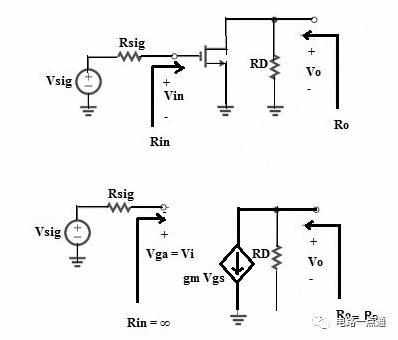gnd: (213, 101, 237, 120), (265, 101, 286, 120), (78, 101, 99, 119), (67, 253, 88, 270), (228, 312, 250, 328)
mos: (196, 40, 234, 71)
power1: (63, 216, 94, 247), (73, 66, 105, 96)
res2: (104, 199, 136, 217), (267, 51, 284, 84), (114, 50, 146, 65), (270, 241, 285, 273)
